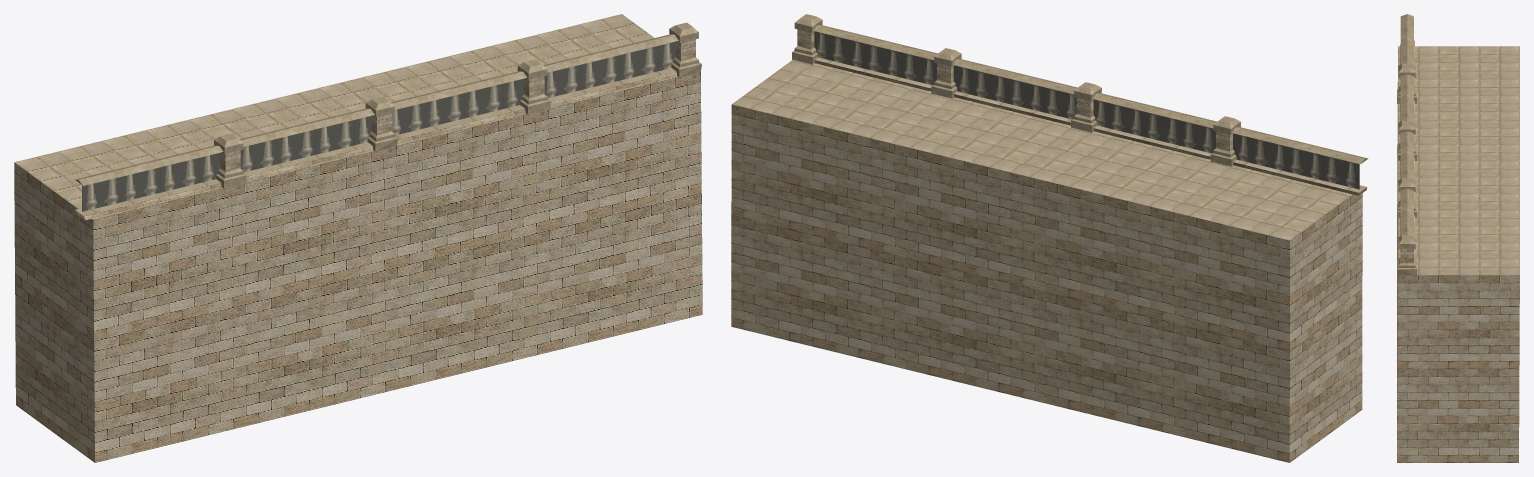
The model's file is thm_nboo_thed_imprv_seawall_straight_s01_2seg_l0.fbx.
3 renders of one model, left to right at view 1: azimuth 30°, elevation 25°; view 2: azimuth 150°, elevation 25°; view 3: azimuth 270°, elevation 25°, orthographic. The views are drawn at different scales.
Parts seen in each view (by area): view 1: mesh_node; view 2: mesh_node; view 3: mesh_node.
Part boxes in pixels (x1=…): mesh_node: x1=14, y1=14, x2=702, y2=462; mesh_node: x1=731, y1=14, x2=1368, y2=462; mesh_node: x1=1397, y1=14, x2=1519, y2=462.
Bounding box in the file's own units: 16.24 × 7.2 × 3.63.
